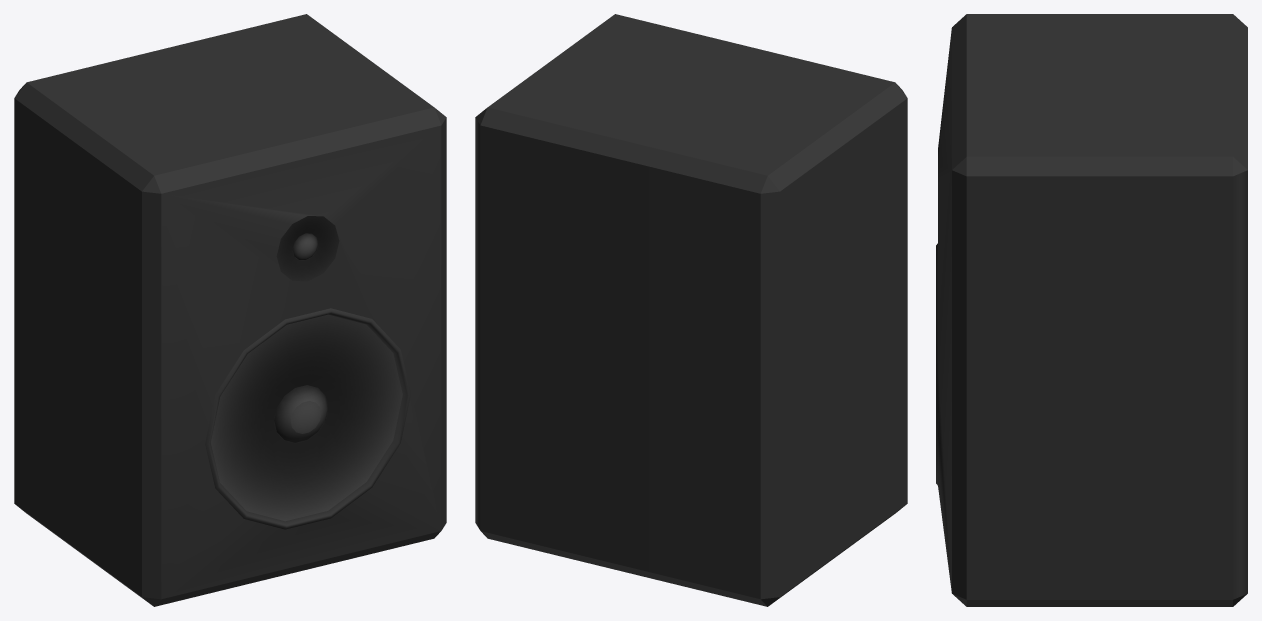
File: fbx_speaker.fbx
The picture shows the model from 3 angles, left to right: view 1: azimuth 30°, elevation 25°; view 2: azimuth 150°, elevation 25°; view 3: azimuth 270°, elevation 25°; orthographic projection. The views are drawn at different scales.
Visible parts, largest first — view 1: fbx_speaker; view 2: fbx_speaker; view 3: fbx_speaker.
Part boxes in pixels (x1,y1,x2,y2): fbx_speaker: (14,14,446,606); fbx_speaker: (475,14,907,606); fbx_speaker: (936,14,1247,606).
Size of the model in its own units: 0.9141 by 1.24 by 0.776.
1 material, 1 textured.
